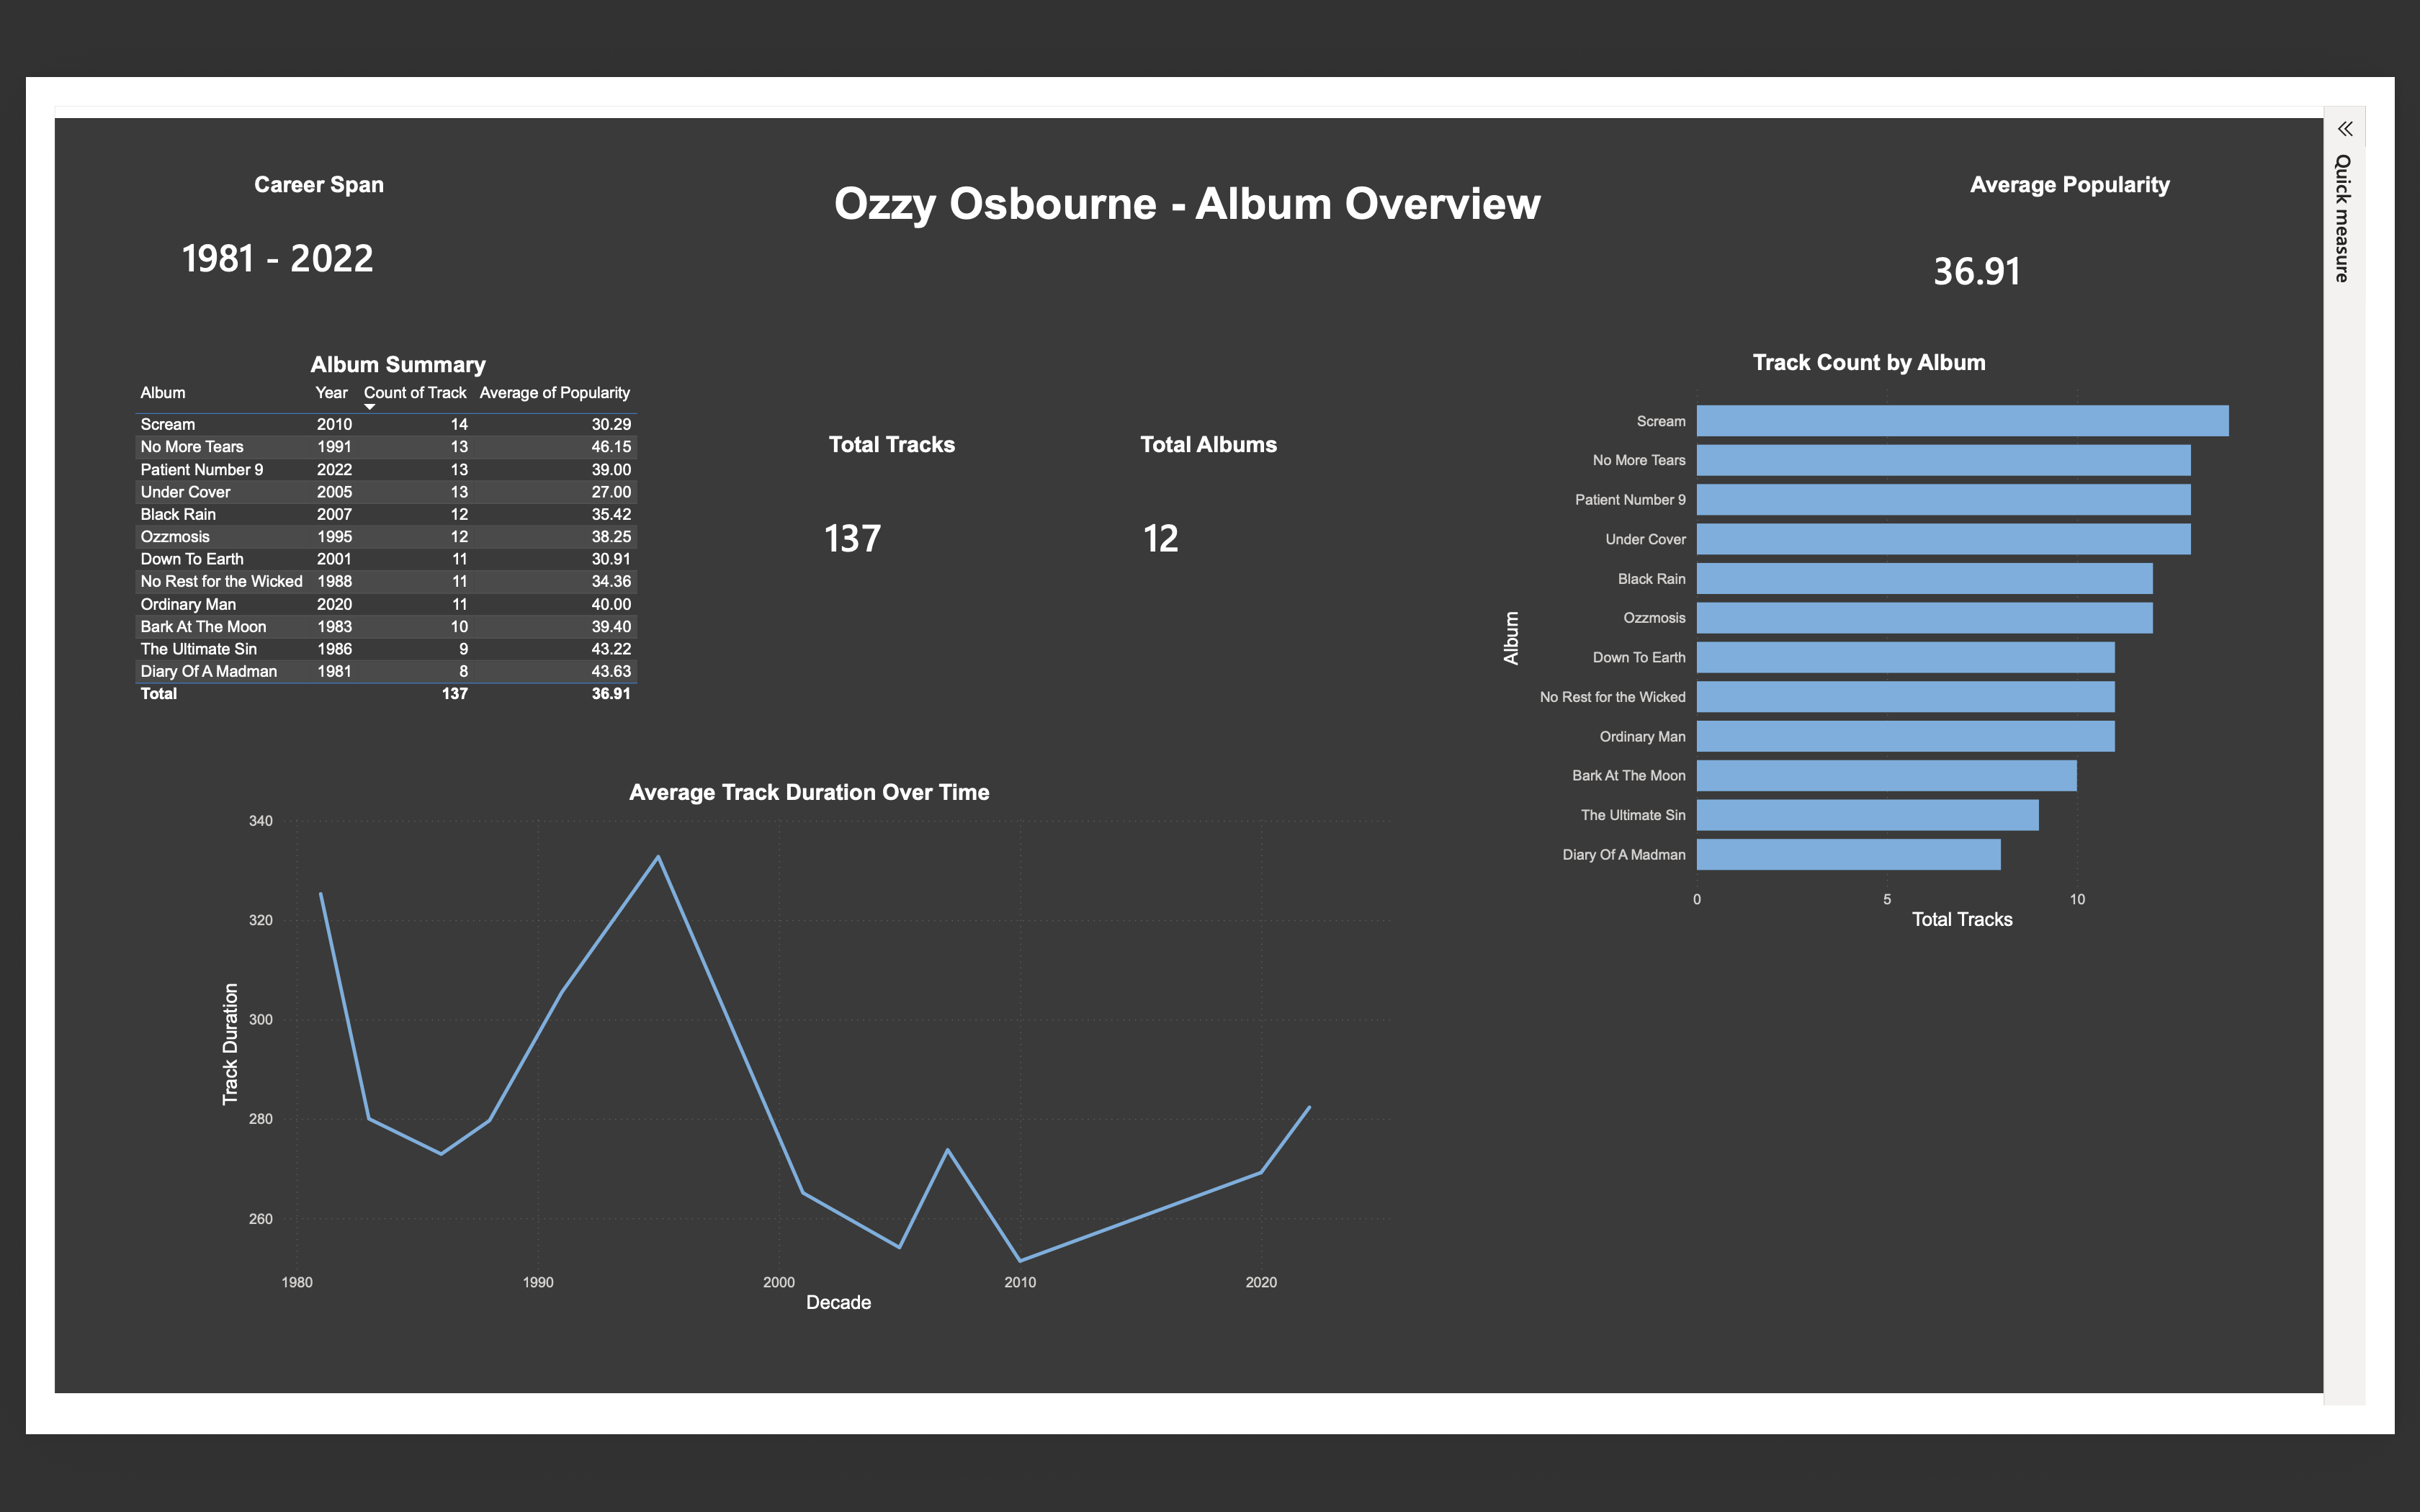

Layout of this report page (visuals, bound fields, positions):
{"tool":"powerbi","page":{"name":"Album Overview","canvas":[1920,1080],"ordinal":0},"visuals":[{"type":"cardVisual","title":"Total Tracks","fields":{"Data":["CountNonNull(OzzyOsbourneAlbumTracks 2 (2).Track)"]},"box":[622,266,174,150],"z":0},{"type":"cardVisual","title":"Total Albums","fields":{"Data":["Count(OzzyOsbourneAlbumTracks 2 (2).Album)"]},"box":[892,266,170,150],"z":1000},{"type":"cardVisual","title":"Average Popularity","fields":{"Data":["Avg(OzzyOsbourneAlbumTracks 2 (2).Popularity)"]},"box":[1560,46,292,138],"z":2000},{"type":"cardVisual","title":"Career Span","fields":{"Data":["OzzyOsbourneAlbumTracks.Career Span"]},"box":[78,46,292,116],"z":3000},{"type":"clusteredBarChart","title":"Track Count by Album","fields":{"Y":["CountNonNull(OzzyOsbourneAlbumTracks 2 (2).Track)"],"Category":["OzzyOsbourneAlbumTracks 2 (2).Album"]},"box":[1220,196,632,496],"z":4000},{"type":"lineChart","title":"Average Track Duration Over Time","fields":{"Category":["OzzyOsbourneAlbumTracks 2 (2).Year"],"Y":["Avg(OzzyOsbourneAlbumTracks 2 (2).Duration_Seconds)"]},"box":[136,560,1006,456],"z":5000},{"type":"tableEx","title":"Album Summary","fields":{"Values":["OzzyOsbourneAlbumTracks 2 (2).Album","Sum(OzzyOsbourneAlbumTracks 2 (2).Year)","OzzyOsbourneAlbumTracks 2 (2).Track","Avg(OzzyOsbourneAlbumTracks 2 (2).Popularity)"]},"box":[62,198,458,342],"z":6000},{"type":"textbox","box":[580,46,758,54],"z":7000}]}

Visuals, with their boxes on the page's 1920x1080 design canvas (x1, y1, x2, y2). These are canvas units, not pixel positions in the 2420x1512 screenshot, which may show the page scaled, cropped or inside an application window:
"Total Tracks" cardVisual: pyautogui.locateOnScreen(622, 266, 796, 416)
"Total Albums" cardVisual: pyautogui.locateOnScreen(892, 266, 1062, 416)
"Average Popularity" cardVisual: pyautogui.locateOnScreen(1560, 46, 1852, 184)
"Career Span" cardVisual: pyautogui.locateOnScreen(78, 46, 370, 162)
"Track Count by Album" clusteredBarChart: pyautogui.locateOnScreen(1220, 196, 1852, 692)
"Average Track Duration Over Time" lineChart: pyautogui.locateOnScreen(136, 560, 1142, 1016)
"Album Summary" tableEx: pyautogui.locateOnScreen(62, 198, 520, 540)
textbox: pyautogui.locateOnScreen(580, 46, 1338, 100)
